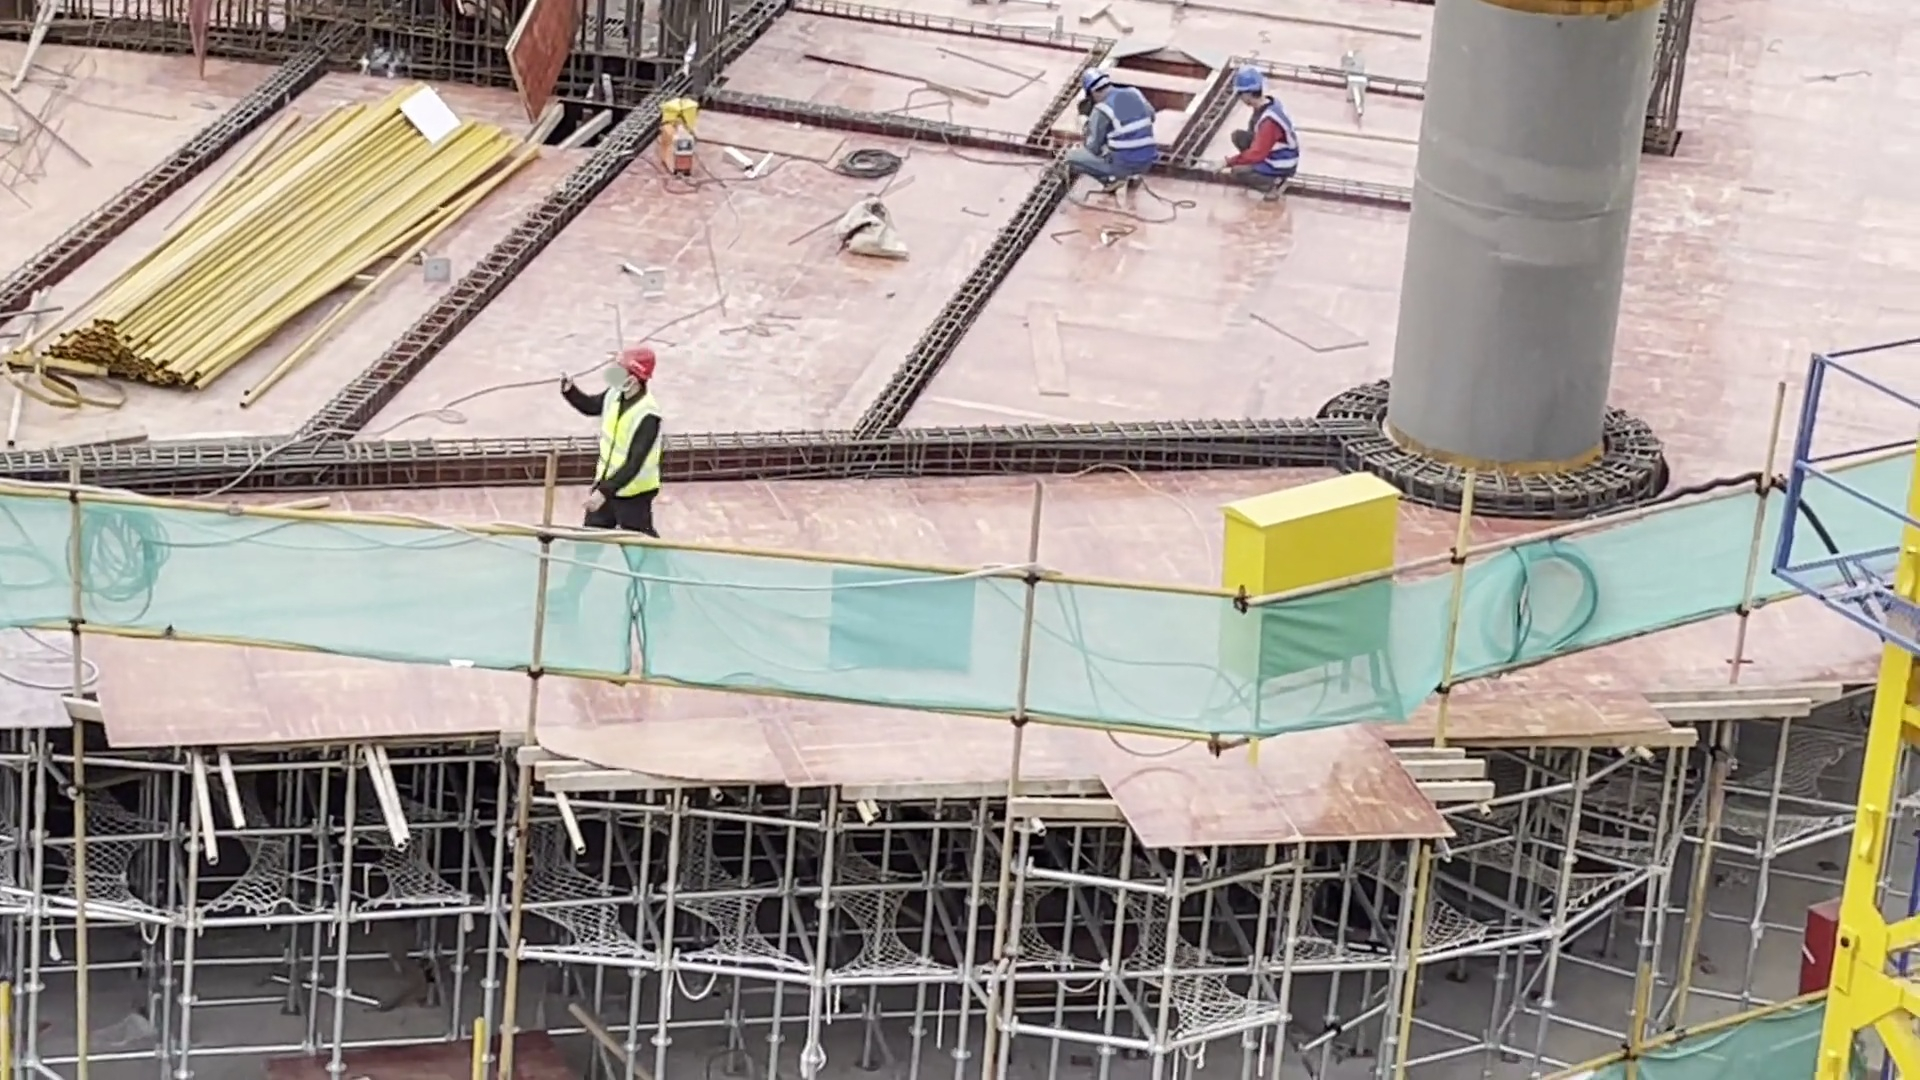helmet: (613, 345, 657, 382), (1229, 62, 1265, 95), (1081, 66, 1109, 91)
person: (551, 345, 668, 532), (1057, 66, 1157, 203), (1222, 63, 1304, 205)
vest: (601, 385, 666, 502), (1093, 85, 1159, 175), (1246, 104, 1302, 178)
